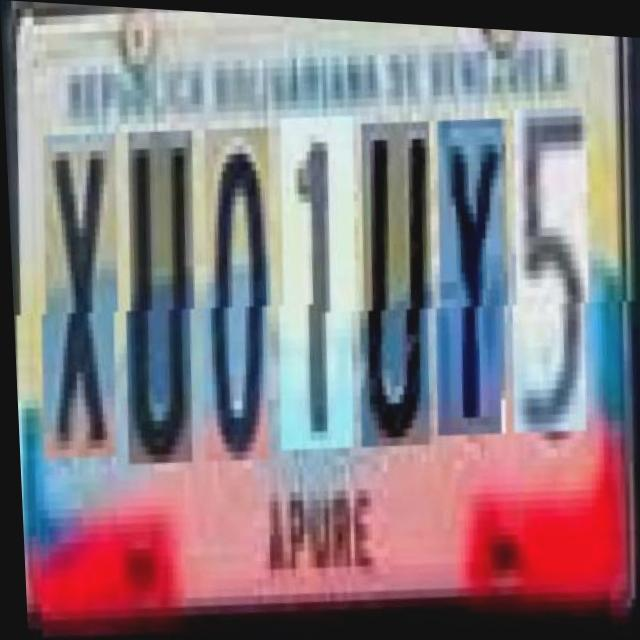1: (272, 115, 365, 456)
5: (506, 108, 598, 441)
o: (196, 126, 281, 467)
u: (354, 121, 441, 454), (120, 128, 204, 469)
x: (34, 130, 126, 463)
y: (430, 119, 516, 444)
